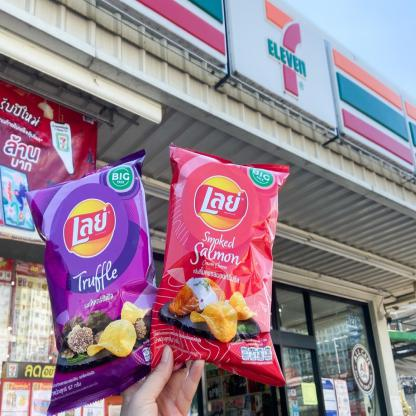potatochip: (15, 144, 185, 415), (151, 140, 293, 396)
